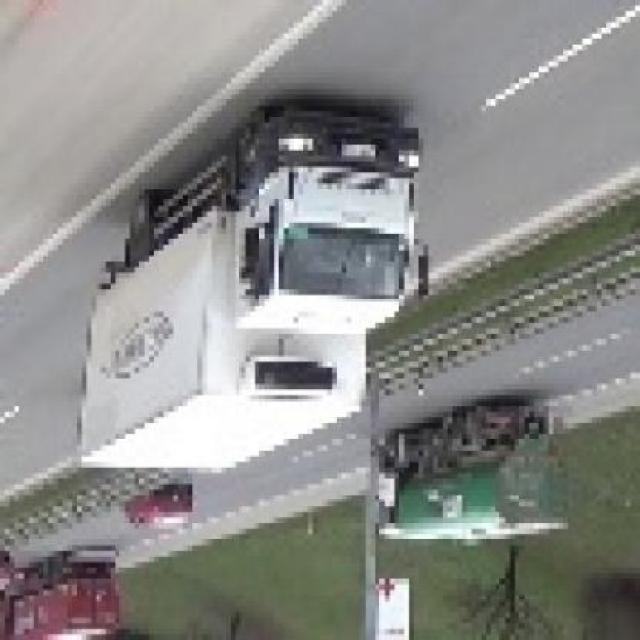truck: (83, 112, 434, 485), (376, 396, 579, 558)
